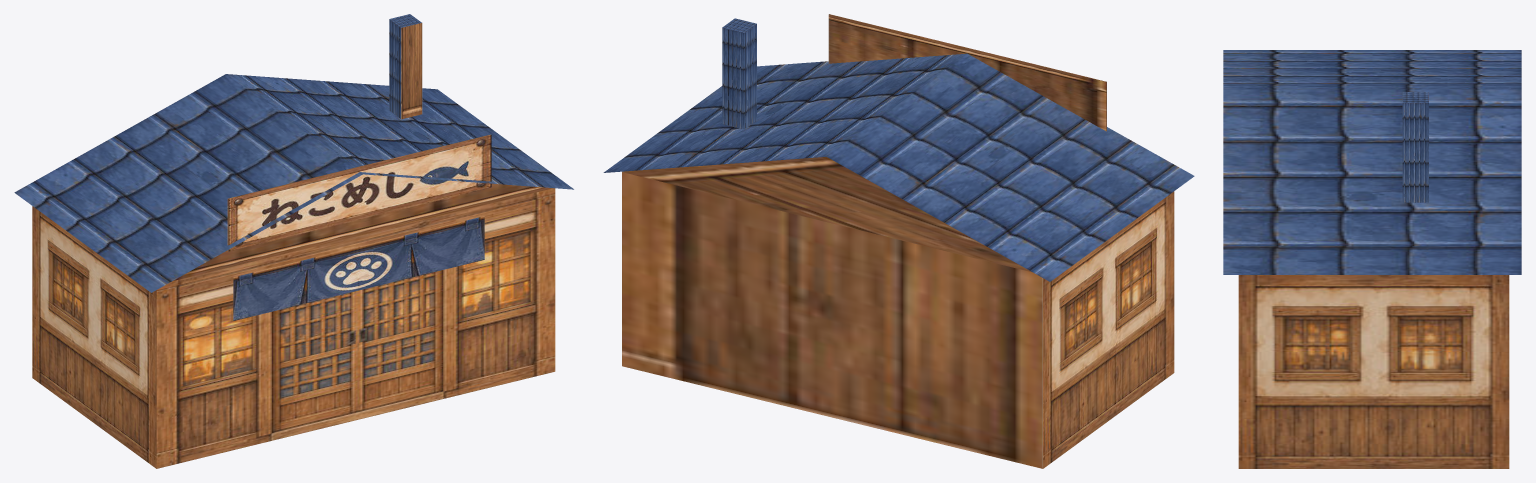
The model's file is nyanisyarud-harbor-diner-far-navy.glb.
The picture shows the model from 3 angles, left to right: view 1: azimuth 30°, elevation 25°; view 2: azimuth 150°, elevation 25°; view 3: azimuth 270°, elevation 25°; orthographic projection. The views are drawn at different scales.
Visible parts, largest first — view 1: 06_harbor_diner_Far_navy; view 2: 06_harbor_diner_Far_navy; view 3: 06_harbor_diner_Far_navy.
Part boxes in pixels (<box>): 06_harbor_diner_Far_navy: <box>14,14,573,468</box>; 06_harbor_diner_Far_navy: <box>603,14,1194,468</box>; 06_harbor_diner_Far_navy: <box>1223,50,1521,468</box>.
Size of the model in its own units: 3.44 by 2.39 by 1.93.
Materials: 1 (1 with a texture image).
